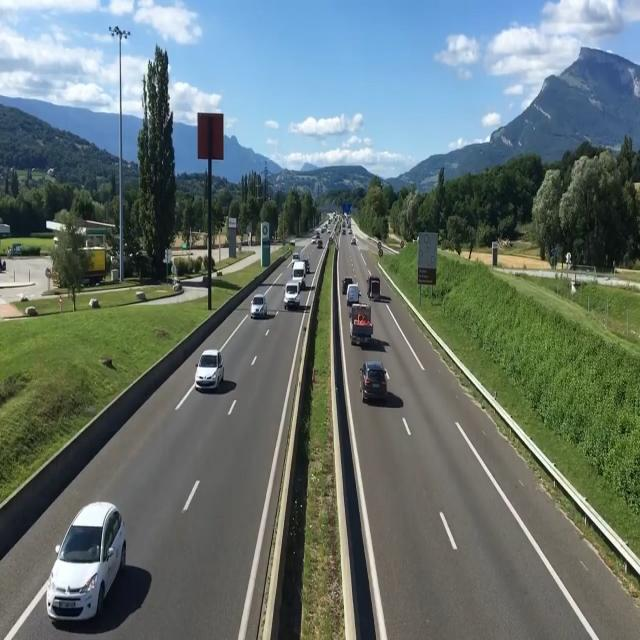car: (49, 502, 129, 630), (193, 348, 228, 395), (363, 359, 393, 407), (350, 303, 376, 347), (248, 285, 274, 322), (284, 279, 301, 314), (369, 275, 384, 302), (345, 285, 359, 309), (350, 232, 358, 249)
